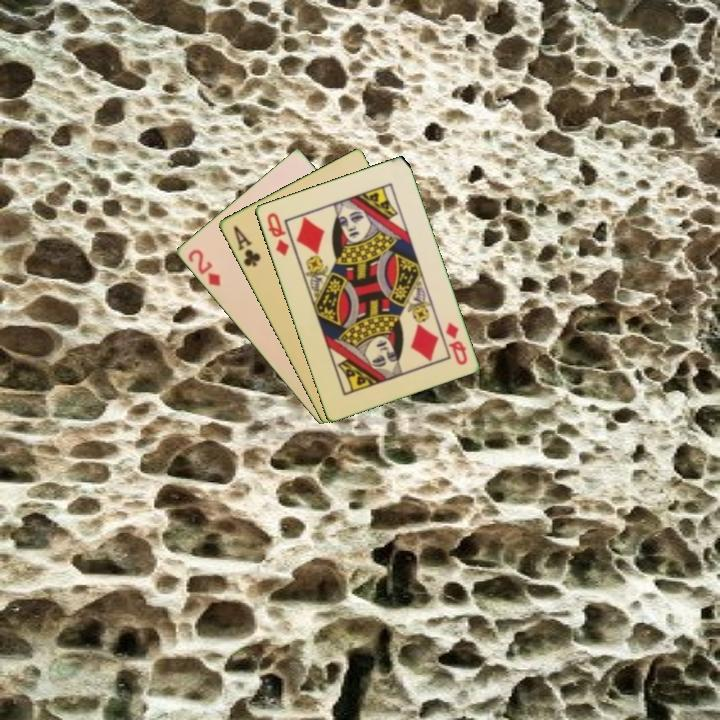2d: (184, 245, 223, 289)
Ac: (229, 222, 263, 269)
Qd: (263, 209, 292, 259), (442, 319, 470, 368)
